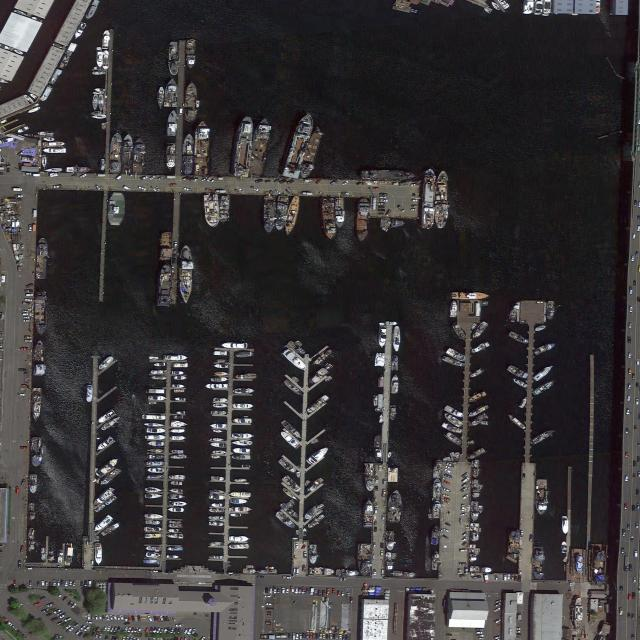large-vehicle: (624, 556, 630, 572), (398, 205, 406, 213), (116, 174, 123, 180), (484, 575, 489, 583), (123, 186, 131, 191), (12, 188, 23, 191), (179, 108, 183, 115), (296, 569, 299, 576)
ship: (281, 112, 317, 180), (246, 117, 274, 177), (298, 125, 326, 180), (232, 116, 256, 177), (193, 120, 210, 176), (433, 169, 448, 229), (421, 168, 435, 229), (179, 245, 193, 305), (282, 195, 302, 237), (321, 197, 338, 242), (281, 348, 309, 373), (106, 192, 126, 227), (156, 264, 172, 307), (355, 198, 370, 243), (361, 169, 417, 181), (273, 195, 290, 232), (120, 134, 135, 174), (183, 82, 198, 122), (386, 489, 403, 524), (109, 132, 123, 174), (34, 290, 47, 335), (35, 237, 48, 279), (182, 134, 195, 175), (280, 419, 304, 441), (204, 195, 220, 228), (306, 445, 331, 466), (95, 457, 120, 478), (529, 428, 556, 447), (305, 394, 330, 414), (263, 195, 276, 233), (535, 479, 548, 516), (358, 543, 372, 577), (531, 378, 556, 397), (132, 138, 145, 174), (33, 340, 46, 376), (279, 501, 301, 522), (280, 475, 303, 495), (30, 388, 43, 423), (159, 231, 174, 261), (163, 79, 179, 107), (593, 550, 605, 587), (279, 430, 301, 450), (274, 510, 296, 530), (283, 378, 305, 398), (303, 502, 326, 521), (506, 364, 531, 381), (532, 364, 554, 383), (311, 348, 333, 367), (532, 546, 544, 580), (30, 437, 43, 468), (278, 457, 299, 476), (307, 367, 329, 385), (286, 340, 308, 358), (100, 415, 122, 433), (92, 489, 114, 507), (100, 520, 122, 538), (445, 347, 468, 364), (466, 403, 490, 419), (98, 469, 119, 487), (92, 515, 113, 533), (507, 331, 532, 346), (572, 596, 583, 630), (168, 42, 179, 76), (466, 412, 489, 428), (166, 109, 179, 137), (507, 413, 527, 431), (470, 320, 488, 340), (443, 411, 464, 428), (334, 197, 345, 229), (508, 531, 520, 560), (306, 513, 326, 530), (533, 342, 557, 356), (442, 355, 466, 369), (444, 405, 466, 420), (362, 498, 373, 528), (185, 40, 196, 70), (165, 143, 177, 170), (305, 477, 324, 494), (281, 487, 301, 503), (441, 422, 465, 435), (451, 292, 490, 300), (219, 196, 230, 224), (97, 355, 115, 372), (451, 321, 467, 340), (95, 436, 114, 452), (365, 463, 375, 492), (97, 409, 116, 424), (470, 341, 490, 355), (508, 302, 521, 323), (47, 68, 63, 85), (38, 85, 54, 102), (466, 448, 486, 461), (73, 22, 87, 40), (381, 218, 406, 228), (446, 432, 463, 446), (373, 435, 382, 461), (468, 391, 487, 403), (63, 42, 78, 57), (56, 54, 70, 70), (64, 542, 73, 566), (392, 326, 400, 352), (27, 527, 35, 553), (511, 377, 528, 389), (470, 566, 494, 574), (393, 570, 417, 578), (157, 86, 165, 110), (430, 526, 440, 545), (469, 523, 479, 542), (392, 3, 411, 13), (390, 374, 399, 395), (94, 543, 102, 566), (65, 166, 91, 173), (309, 568, 335, 575), (222, 342, 248, 349), (433, 460, 443, 478), (470, 501, 479, 521), (385, 531, 394, 551), (546, 300, 554, 321), (336, 569, 360, 576), (309, 544, 317, 565), (469, 368, 484, 379), (388, 467, 399, 482), (432, 501, 441, 519), (379, 325, 386, 348), (471, 479, 479, 499), (385, 552, 393, 572), (29, 474, 37, 494), (102, 30, 110, 50), (374, 353, 385, 367), (433, 479, 441, 498), (431, 551, 439, 570), (469, 544, 477, 563), (163, 355, 188, 361), (561, 516, 569, 534), (232, 433, 256, 439), (104, 495, 117, 506), (576, 554, 583, 574), (22, 94, 36, 104), (42, 141, 65, 147), (232, 403, 255, 409), (472, 460, 479, 479), (28, 502, 35, 521), (490, 1, 502, 12), (231, 440, 253, 446), (234, 388, 256, 394), (229, 536, 251, 542), (231, 506, 253, 512), (235, 374, 257, 380), (12, 9, 28, 17), (533, 324, 547, 333), (97, 47, 103, 68), (27, 106, 41, 115), (230, 492, 251, 498), (86, 385, 93, 403), (257, 568, 277, 574), (142, 415, 166, 420), (103, 50, 109, 70), (205, 384, 229, 389), (450, 301, 457, 318), (43, 148, 66, 153), (148, 395, 167, 401), (144, 513, 163, 519), (391, 355, 398, 371), (518, 398, 528, 409), (235, 352, 253, 358), (229, 544, 250, 549), (171, 421, 188, 427), (209, 442, 226, 448), (43, 167, 63, 172), (146, 428, 166, 433), (231, 455, 251, 460), (323, 363, 334, 372), (95, 504, 106, 513), (30, 16, 44, 23), (98, 95, 104, 111), (92, 95, 98, 111), (390, 405, 396, 421), (17, 126, 29, 134), (148, 441, 164, 447), (168, 507, 184, 513), (146, 552, 162, 558), (147, 435, 166, 440), (233, 418, 252, 423), (146, 461, 165, 466), (147, 389, 165, 394), (213, 350, 228, 356), (40, 547, 46, 562), (21, 156, 36, 162), (211, 377, 229, 382), (230, 499, 248, 504), (145, 494, 163, 499), (169, 501, 187, 506), (168, 494, 186, 499), (145, 487, 163, 492), (145, 533, 163, 538), (147, 454, 165, 459), (145, 527, 163, 532), (147, 448, 164, 453), (233, 448, 250, 453), (210, 423, 227, 428), (210, 410, 227, 415), (209, 495, 226, 500), (209, 489, 226, 494), (169, 475, 186, 480), (147, 468, 164, 473), (13, 48, 25, 55), (57, 549, 63, 563), (144, 423, 165, 427), (291, 375, 300, 384), (470, 322, 479, 331), (91, 114, 107, 119), (323, 375, 333, 383), (212, 450, 228, 455), (167, 534, 183, 539), (146, 546, 162, 551), (16, 260, 26, 268), (378, 375, 384, 388), (48, 550, 54, 563), (41, 154, 47, 167), (243, 568, 256, 574), (52, 43, 63, 50), (213, 403, 228, 408), (214, 364, 229, 369), (209, 555, 224, 560), (209, 541, 224, 546), (209, 522, 224, 527), (146, 520, 161, 525), (143, 559, 158, 564), (561, 541, 567, 553), (373, 395, 379, 407), (294, 340, 303, 348), (169, 455, 187, 459), (147, 475, 165, 479), (310, 438, 320, 445), (483, 7, 493, 14), (215, 371, 229, 376), (211, 476, 225, 481), (170, 436, 187, 440), (153, 362, 166, 367), (286, 501, 294, 509), (169, 429, 185, 433), (151, 376, 167, 380), (151, 370, 167, 374), (208, 516, 224, 520), (167, 547, 183, 551), (380, 226, 389, 233), (100, 159, 105, 171), (213, 398, 228, 402), (209, 508, 224, 512), (168, 524, 183, 528), (168, 489, 183, 493), (171, 481, 183, 486), (305, 480, 312, 488), (562, 555, 569, 563), (449, 451, 456, 459), (91, 71, 105, 75), (174, 376, 188, 380), (386, 321, 397, 326), (171, 450, 184, 454), (42, 137, 55, 141), (172, 384, 185, 388), (289, 499, 296, 506), (427, 513, 433, 521), (94, 535, 100, 543), (455, 452, 461, 460), (93, 88, 105, 92), (174, 397, 186, 401), (172, 371, 184, 375), (29, 93, 37, 99), (211, 503, 223, 507), (167, 555, 179, 559), (378, 415, 383, 424), (174, 389, 185, 393), (173, 415, 184, 419), (23, 133, 34, 137), (213, 438, 224, 442), (230, 513, 241, 517), (168, 529, 179, 533), (391, 553, 397, 560), (19, 244, 25, 251), (101, 123, 107, 130), (264, 566, 274, 570), (375, 407, 383, 412), (443, 457, 451, 462), (0, 156, 5, 164), (467, 440, 475, 445), (481, 421, 489, 426), (149, 356, 159, 360), (93, 66, 103, 70), (92, 92, 105, 95), (246, 565, 255, 569), (234, 479, 246, 482), (478, 485, 483, 492), (109, 487, 116, 492), (211, 456, 222, 459), (303, 528, 307, 536), (410, 9, 418, 13), (296, 472, 301, 478), (295, 529, 300, 535), (387, 452, 392, 458), (19, 254, 24, 260), (37, 132, 47, 135), (213, 430, 223, 433), (97, 433, 101, 440), (196, 100, 200, 107), (13, 251, 20, 255), (148, 402, 157, 405), (176, 411, 185, 414), (242, 465, 251, 468), (227, 561, 231, 567), (379, 322, 385, 326), (18, 266, 22, 272), (483, 302, 488, 306), (132, 394, 135, 398)
small-vehicle: (250, 185, 259, 192), (329, 180, 339, 186), (385, 209, 392, 217), (66, 627, 74, 634), (472, 575, 482, 580), (183, 187, 193, 192), (146, 615, 153, 622), (59, 613, 67, 619), (461, 472, 469, 478), (461, 477, 469, 483), (17, 150, 25, 156), (79, 173, 87, 179), (274, 189, 282, 195), (287, 179, 295, 185), (53, 609, 61, 615), (63, 625, 71, 631), (443, 488, 452, 493), (446, 463, 455, 468), (25, 283, 34, 288), (410, 182, 419, 187), (442, 534, 449, 540), (461, 494, 468, 500), (494, 618, 501, 624), (342, 180, 349, 186), (315, 179, 322, 185), (239, 188, 246, 194), (273, 178, 280, 184), (21, 633, 27, 640), (67, 600, 74, 606), (73, 622, 80, 628), (80, 624, 86, 631), (444, 474, 452, 479), (493, 607, 501, 612), (182, 176, 190, 181), (279, 179, 287, 184), (206, 188, 214, 193), (51, 617, 59, 622), (41, 608, 49, 613), (47, 602, 55, 607), (64, 617, 72, 622), (56, 611, 64, 616), (301, 544, 307, 550), (461, 536, 467, 542), (462, 531, 468, 537), (462, 482, 468, 488), (340, 191, 349, 195), (22, 302, 31, 306), (139, 176, 148, 180), (14, 194, 23, 198), (254, 179, 263, 183), (16, 629, 22, 635), (2, 616, 8, 622), (123, 626, 129, 632), (109, 626, 115, 632), (71, 603, 77, 609), (62, 596, 68, 602), (84, 626, 90, 632), (75, 629, 81, 635), (445, 465, 452, 470), (444, 522, 451, 527), (187, 628, 192, 635), (443, 494, 450, 499), (443, 528, 450, 533), (495, 599, 502, 604), (460, 487, 467, 492), (494, 602, 501, 607), (21, 479, 26, 486), (149, 175, 156, 180), (150, 186, 157, 191), (95, 185, 102, 190), (355, 181, 362, 186), (201, 177, 208, 182), (159, 627, 164, 634), (6, 621, 13, 626), (46, 612, 53, 617), (39, 596, 46, 601), (113, 626, 118, 633), (58, 592, 63, 599), (34, 602, 41, 607), (443, 481, 451, 485), (273, 586, 277, 594), (529, 534, 533, 542), (17, 560, 21, 568), (15, 486, 19, 494), (20, 446, 28, 450), (138, 186, 146, 190), (461, 541, 467, 546), (191, 628, 196, 634), (183, 628, 188, 634), (444, 500, 450, 505), (494, 575, 499, 581), (173, 628, 178, 634), (234, 188, 240, 193), (20, 347, 30, 350), (157, 176, 163, 181), (156, 186, 161, 192), (189, 176, 195, 181), (71, 173, 77, 178), (53, 185, 63, 188), (193, 177, 199, 182), (211, 177, 216, 183), (11, 625, 17, 630), (82, 633, 88, 638), (78, 632, 84, 637), (127, 627, 132, 633), (106, 626, 111, 632), (103, 626, 108, 632), (172, 617, 177, 623), (17, 603, 23, 608), (92, 626, 97, 632), (90, 632, 96, 637), (156, 627, 161, 633), (149, 627, 154, 633), (130, 627, 135, 633), (152, 616, 157, 622), (116, 626, 121, 632), (156, 616, 161, 622), (159, 616, 164, 622), (57, 621, 63, 626), (119, 615, 124, 621), (116, 615, 121, 621), (113, 615, 118, 621), (105, 615, 110, 621), (101, 615, 106, 621), (86, 614, 91, 620), (444, 469, 451, 473), (374, 507, 378, 514), (322, 590, 326, 597), (633, 460, 637, 467), (622, 529, 626, 536), (629, 287, 633, 294), (627, 337, 631, 344), (460, 513, 467, 517), (461, 505, 465, 512), (619, 608, 623, 615), (632, 592, 636, 599), (628, 593, 632, 600), (520, 530, 524, 537), (494, 636, 501, 640), (41, 580, 45, 587), (137, 615, 141, 622), (84, 580, 88, 587), (379, 199, 388, 202), (379, 193, 388, 196), (175, 624, 184, 627), (166, 628, 171, 633), (165, 616, 170, 621), (162, 616, 167, 621), (94, 615, 99, 620), (444, 497, 450, 501), (375, 477, 379, 483), (378, 465, 382, 471), (295, 543, 299, 549), (302, 565, 306, 571), (373, 569, 377, 575), (312, 633, 316, 639), (283, 576, 291, 579), (290, 586, 294, 592), (326, 589, 330, 595), (170, 628, 174, 634), (635, 399, 639, 405), (626, 409, 630, 415), (632, 473, 636, 479), (632, 505, 636, 511), (628, 369, 632, 375), (633, 280, 637, 286), (628, 322, 632, 328), (634, 551, 638, 557), (621, 548, 625, 554), (503, 575, 507, 581), (459, 549, 467, 552), (627, 612, 631, 618), (475, 628, 483, 631), (476, 634, 484, 637), (163, 627, 167, 633), (25, 290, 33, 293), (29, 224, 32, 232), (269, 190, 275, 194), (25, 299, 33, 302), (21, 545, 24, 553), (19, 368, 27, 371), (24, 336, 32, 339), (169, 183, 177, 186), (153, 627, 157, 633), (134, 627, 138, 633), (95, 632, 99, 638), (60, 580, 64, 586), (128, 616, 132, 622), (98, 615, 102, 621), (124, 616, 128, 622), (109, 615, 113, 621), (383, 490, 386, 497), (518, 575, 521, 582), (266, 603, 273, 606), (264, 595, 271, 598), (257, 576, 264, 579), (282, 587, 285, 594), (292, 633, 295, 640), (350, 597, 353, 604), (347, 592, 350, 599), (314, 590, 317, 597), (634, 424, 637, 431), (624, 503, 627, 510), (634, 200, 637, 207), (632, 613, 635, 620), (378, 202, 385, 205), (411, 204, 418, 207), (18, 393, 25, 396), (25, 340, 32, 343), (22, 313, 29, 316), (378, 209, 385, 212), (378, 205, 385, 208), (53, 579, 56, 586), (86, 621, 93, 624), (329, 634, 333, 639), (380, 543, 384, 548), (374, 527, 378, 532), (374, 521, 378, 526), (269, 588, 273, 593), (177, 628, 181, 633), (302, 633, 306, 638), (627, 384, 631, 389), (627, 396, 631, 401), (624, 476, 628, 481), (510, 575, 514, 580), (631, 634, 635, 639), (145, 627, 149, 632), (137, 628, 141, 633), (131, 616, 135, 621), (98, 633, 102, 638), (80, 582, 84, 587), (72, 581, 76, 586), (515, 633, 521, 636), (373, 542, 376, 548), (383, 479, 386, 485), (304, 552, 307, 558), (322, 633, 325, 639), (319, 633, 322, 639), (514, 575, 517, 581), (446, 633, 452, 636), (316, 633, 319, 639), (306, 588, 309, 594), (288, 633, 291, 639), (306, 633, 309, 639), (338, 591, 341, 597), (299, 633, 302, 639), (296, 633, 299, 639), (332, 588, 335, 594), (318, 590, 321, 596), (302, 588, 305, 594), (298, 587, 301, 593), (625, 452, 628, 458), (636, 489, 639, 495), (637, 503, 640, 509), (636, 523, 639, 529), (627, 524, 630, 530), (632, 374, 635, 380), (637, 145, 640, 151), (636, 252, 639, 258), (636, 359, 639, 365), (631, 256, 634, 262), (629, 306, 632, 312), (628, 353, 631, 359), (631, 536, 634, 542), (629, 565, 632, 571), (633, 577, 636, 583), (620, 586, 623, 592), (569, 580, 572, 586), (522, 473, 525, 479), (411, 208, 417, 211), (412, 199, 418, 202), (29, 580, 32, 586), (14, 580, 17, 586), (22, 310, 28, 313), (6, 167, 9, 173), (265, 180, 271, 183), (37, 581, 40, 587), (45, 581, 48, 587), (124, 622, 130, 625), (88, 581, 91, 587), (69, 580, 72, 586), (65, 581, 68, 587), (57, 580, 60, 586), (459, 563, 467, 565), (266, 608, 274, 610), (25, 294, 33, 296), (375, 486, 378, 491), (333, 634, 336, 639), (380, 550, 383, 555), (309, 634, 312, 639), (277, 589, 280, 594), (265, 588, 268, 593), (286, 588, 289, 593), (295, 588, 298, 593), (636, 383, 639, 388), (632, 234, 635, 239), (515, 627, 520, 630), (507, 574, 510, 579), (378, 212, 383, 215), (476, 632, 483, 634), (379, 196, 386, 198), (372, 188, 379, 190), (23, 320, 30, 322), (25, 173, 32, 175), (515, 631, 521, 633), (382, 515, 384, 521), (342, 591, 344, 597), (21, 384, 27, 386), (24, 317, 30, 319), (326, 634, 328, 639), (626, 429, 628, 434), (479, 638, 484, 640)
